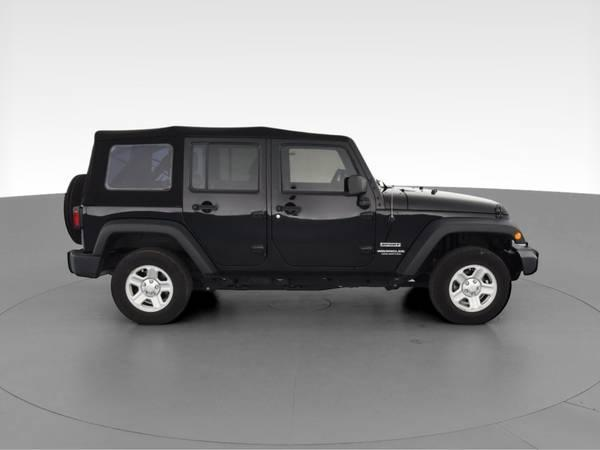Front_Bumper: (516, 247, 541, 275)
Front_Fender: (374, 207, 528, 279)
Front_Right_Door: (271, 191, 378, 274)
Front_Right_Window: (269, 129, 379, 193)
Hood: (379, 183, 508, 216)
Rear_Bumper: (66, 247, 105, 279)
Rear_Fender: (77, 130, 216, 274)
Rear_Right_Door: (180, 191, 270, 273)
Rear_Right_Window: (183, 130, 268, 192)
Wheel: (428, 245, 512, 324), (110, 247, 191, 325)
